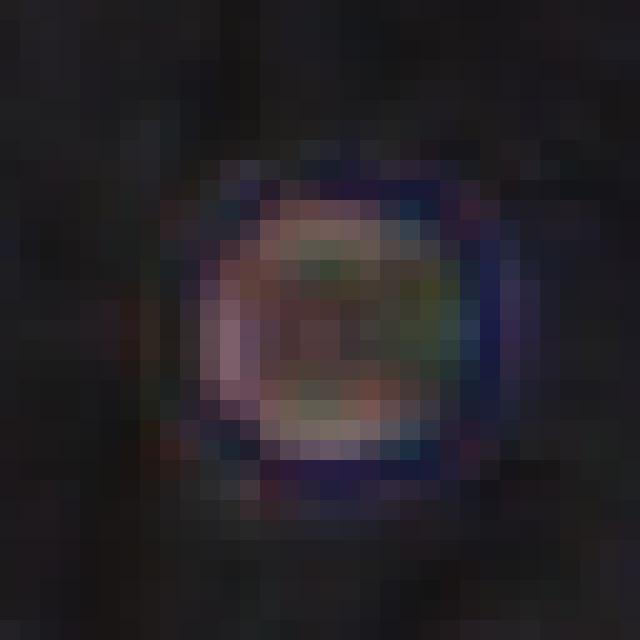SPEED LIMIT 100: (133, 143, 529, 515)
